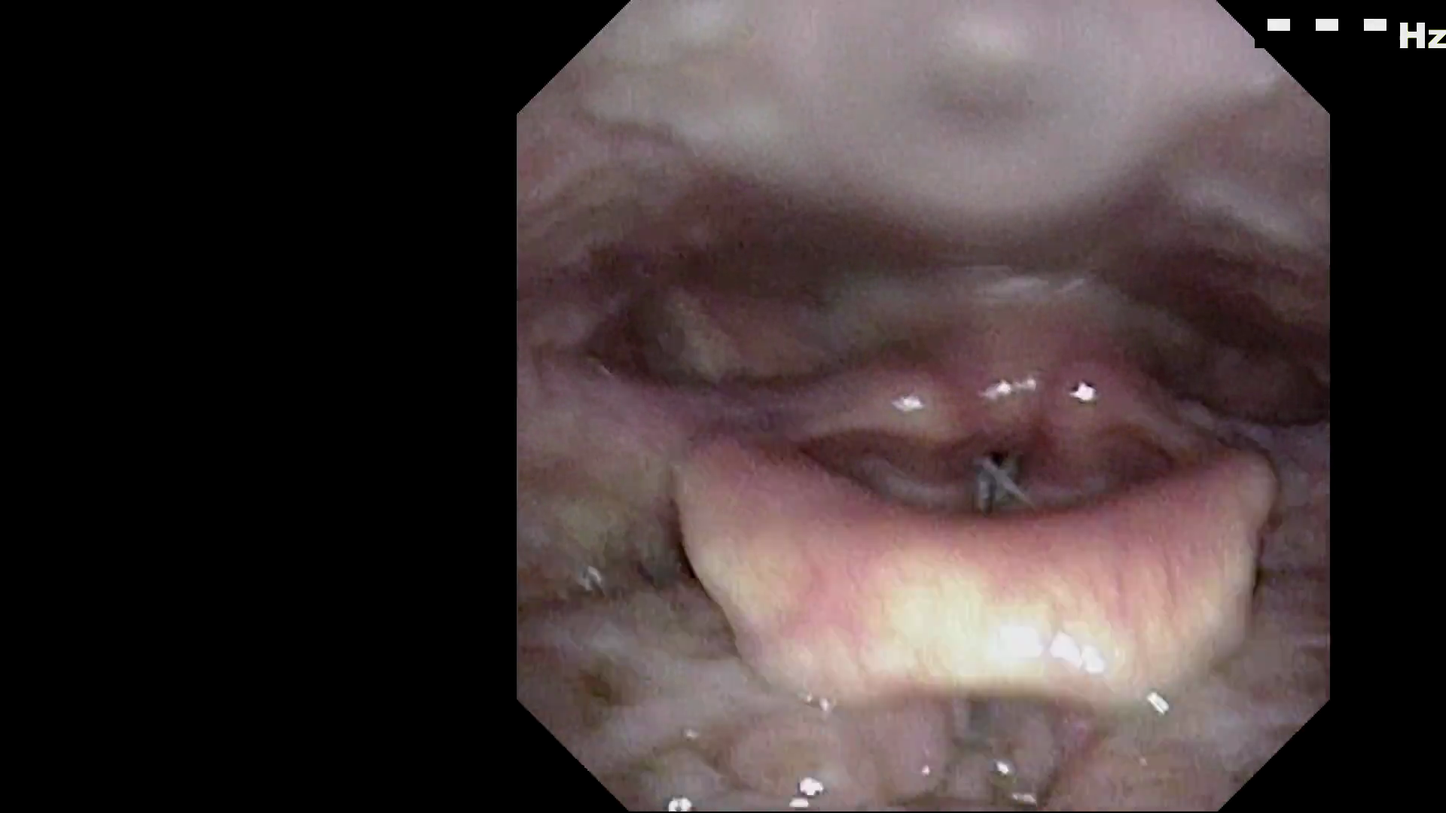epiglottis: (669, 451, 1281, 729)
trachea: (930, 416, 1056, 541), (945, 492, 1028, 582)
